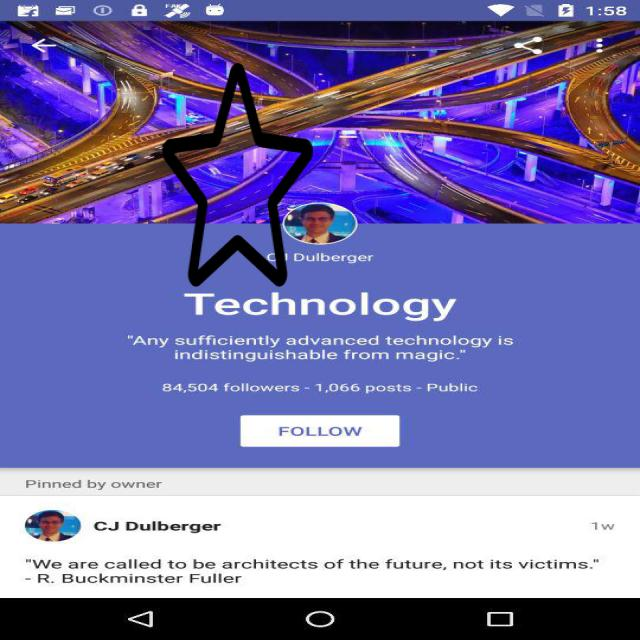forced continuity: (162, 58, 313, 291)
